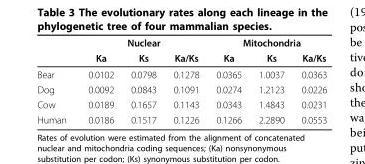table: (36, 36, 326, 124)
table column: (76, 36, 121, 124), (121, 36, 164, 124), (206, 36, 249, 124), (249, 36, 292, 124), (164, 36, 206, 124), (36, 36, 76, 124), (292, 36, 326, 124)
table column header: (36, 36, 326, 65)
table row: (36, 49, 326, 65), (36, 65, 326, 81), (36, 81, 326, 96), (36, 96, 326, 111), (36, 36, 326, 49), (36, 111, 326, 124)
table spanning cell: (76, 36, 206, 49), (206, 36, 326, 49)
